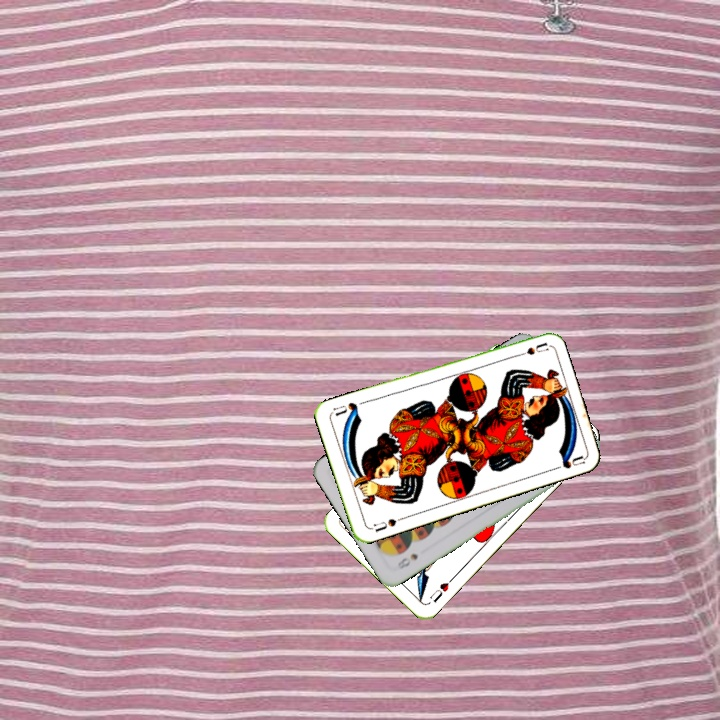HU: (425, 573, 456, 605)
S8: (393, 549, 421, 572)
SU: (509, 339, 549, 360), (370, 513, 406, 535)
